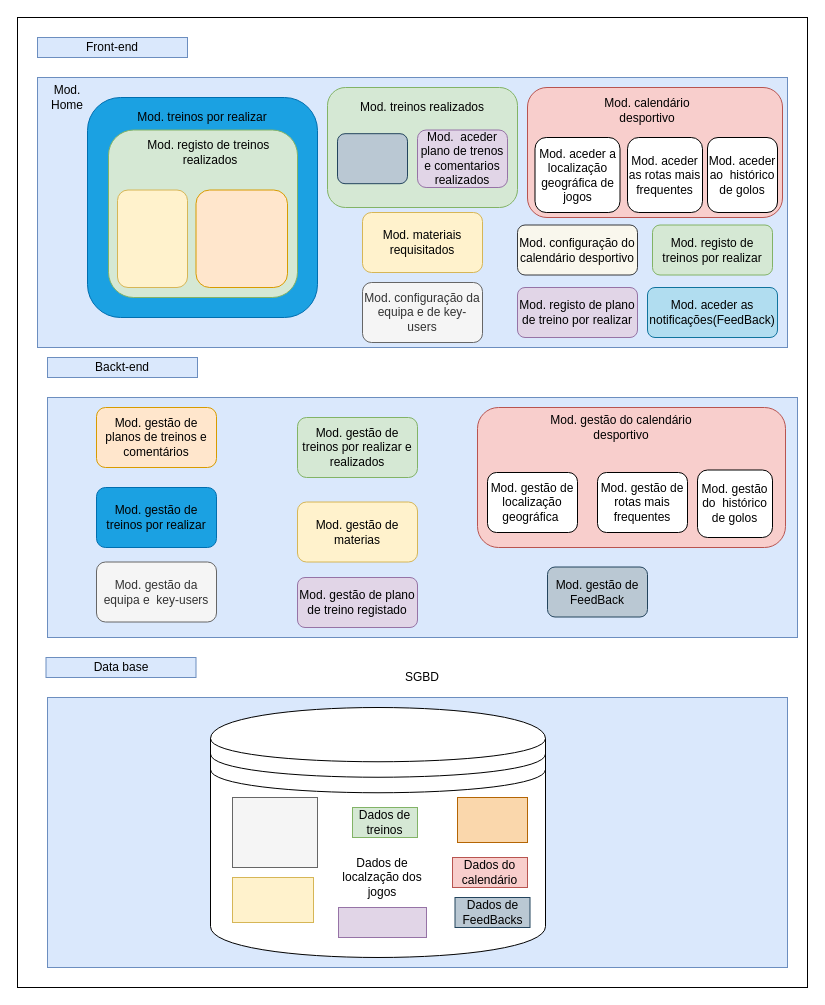
This 825x1005 diagram has some shape labels left out. Here are the shapes that lost their labels. From the top down, the centre of each, then its label:
At point 372,158: "Mod. registo de FeedBack".
At point 152,238: "Mod. requisitar materiais".
At point 241,238: "Mod. submeter plano de treino e comentarios realizados".
At point 275,832: "Dados da equipa e de utizdores".
At point 492,819: "Dados de comentarios".
At point 273,899: "Dados de materiais".
At point 382,922: "Dados do plano treino".
